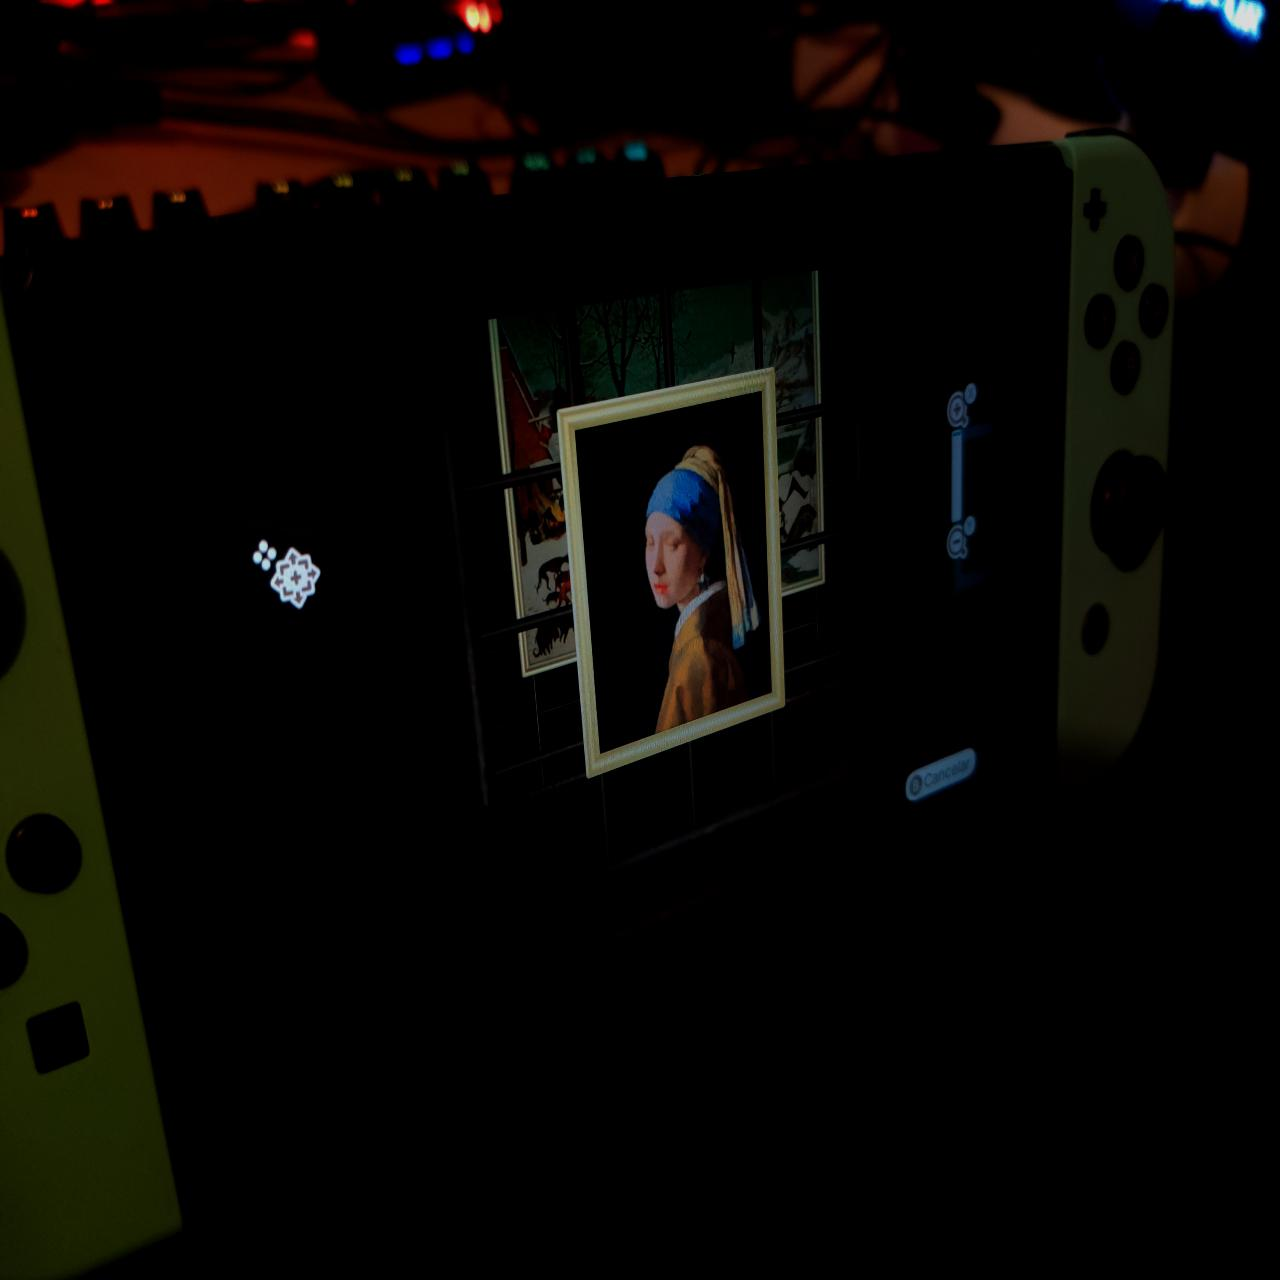PearlEarringFake: (580, 397, 772, 754)
